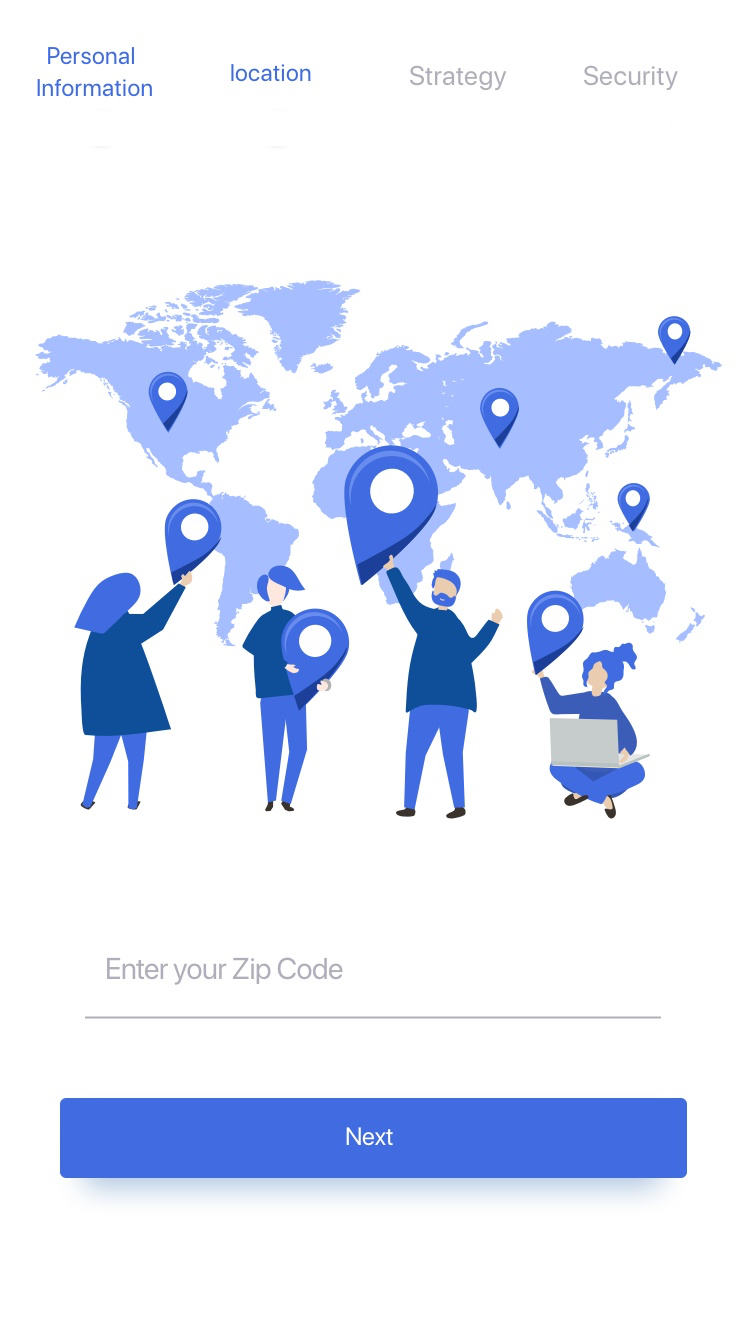EditText: (85, 957, 662, 1020)
Image: (33, 280, 722, 820)
Text: (107, 957, 343, 985), (37, 47, 154, 98), (583, 65, 679, 92), (410, 66, 507, 92), (231, 64, 312, 83)
TextButton: (60, 1097, 688, 1179)
